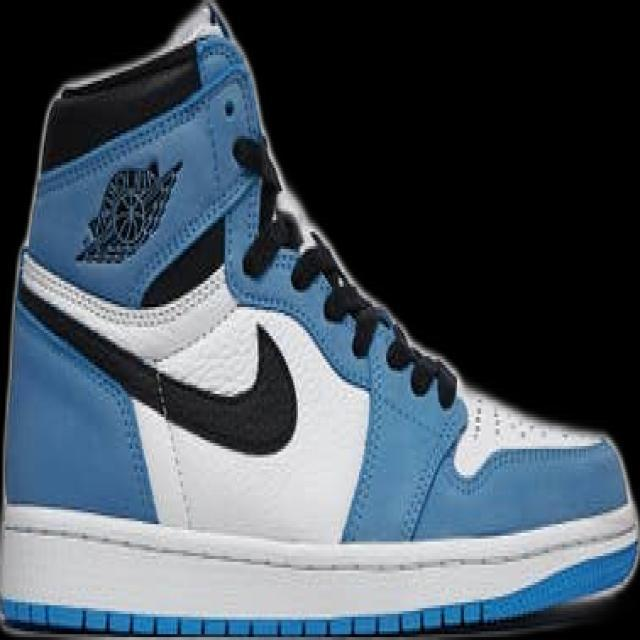J1_InsoleChar: (2, 2, 636, 636)
J1_ShoeLogo: (72, 156, 184, 266)
J1_StitchPattern: (15, 243, 605, 470), (233, 131, 607, 472), (2, 503, 636, 632), (234, 133, 459, 411), (16, 247, 299, 454), (3, 516, 636, 576), (288, 228, 458, 409), (4, 597, 493, 636), (17, 252, 230, 333), (289, 230, 381, 358), (147, 364, 198, 531), (467, 396, 603, 448), (379, 327, 459, 410), (406, 353, 458, 410)
